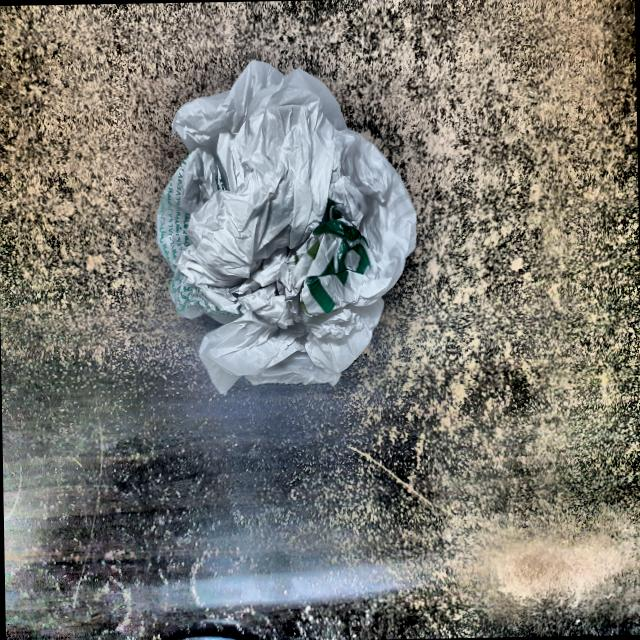plastic bag: (142, 52, 426, 404)
